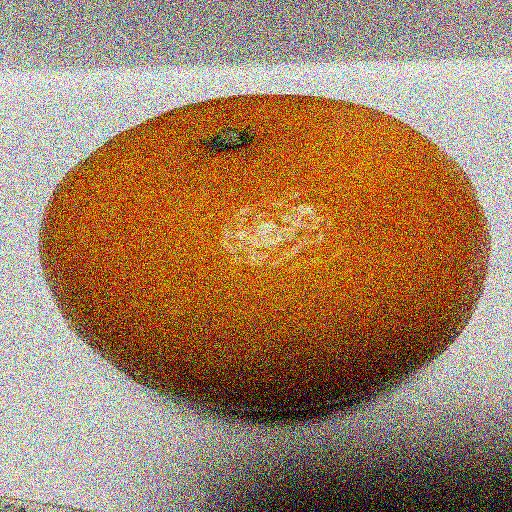fruit: (468, 123, 506, 434)
